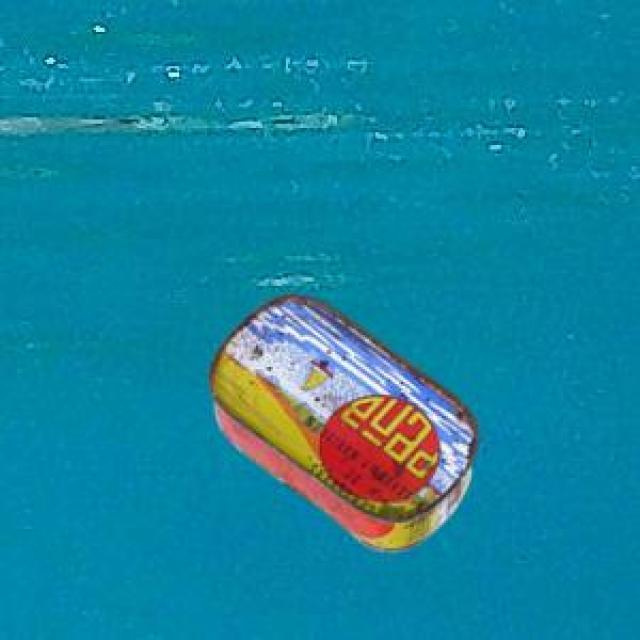Can: (206, 291, 477, 549)
